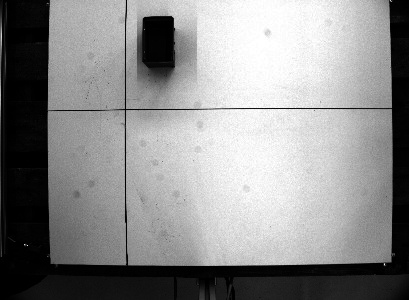kltxs: (139, 13, 177, 69)
